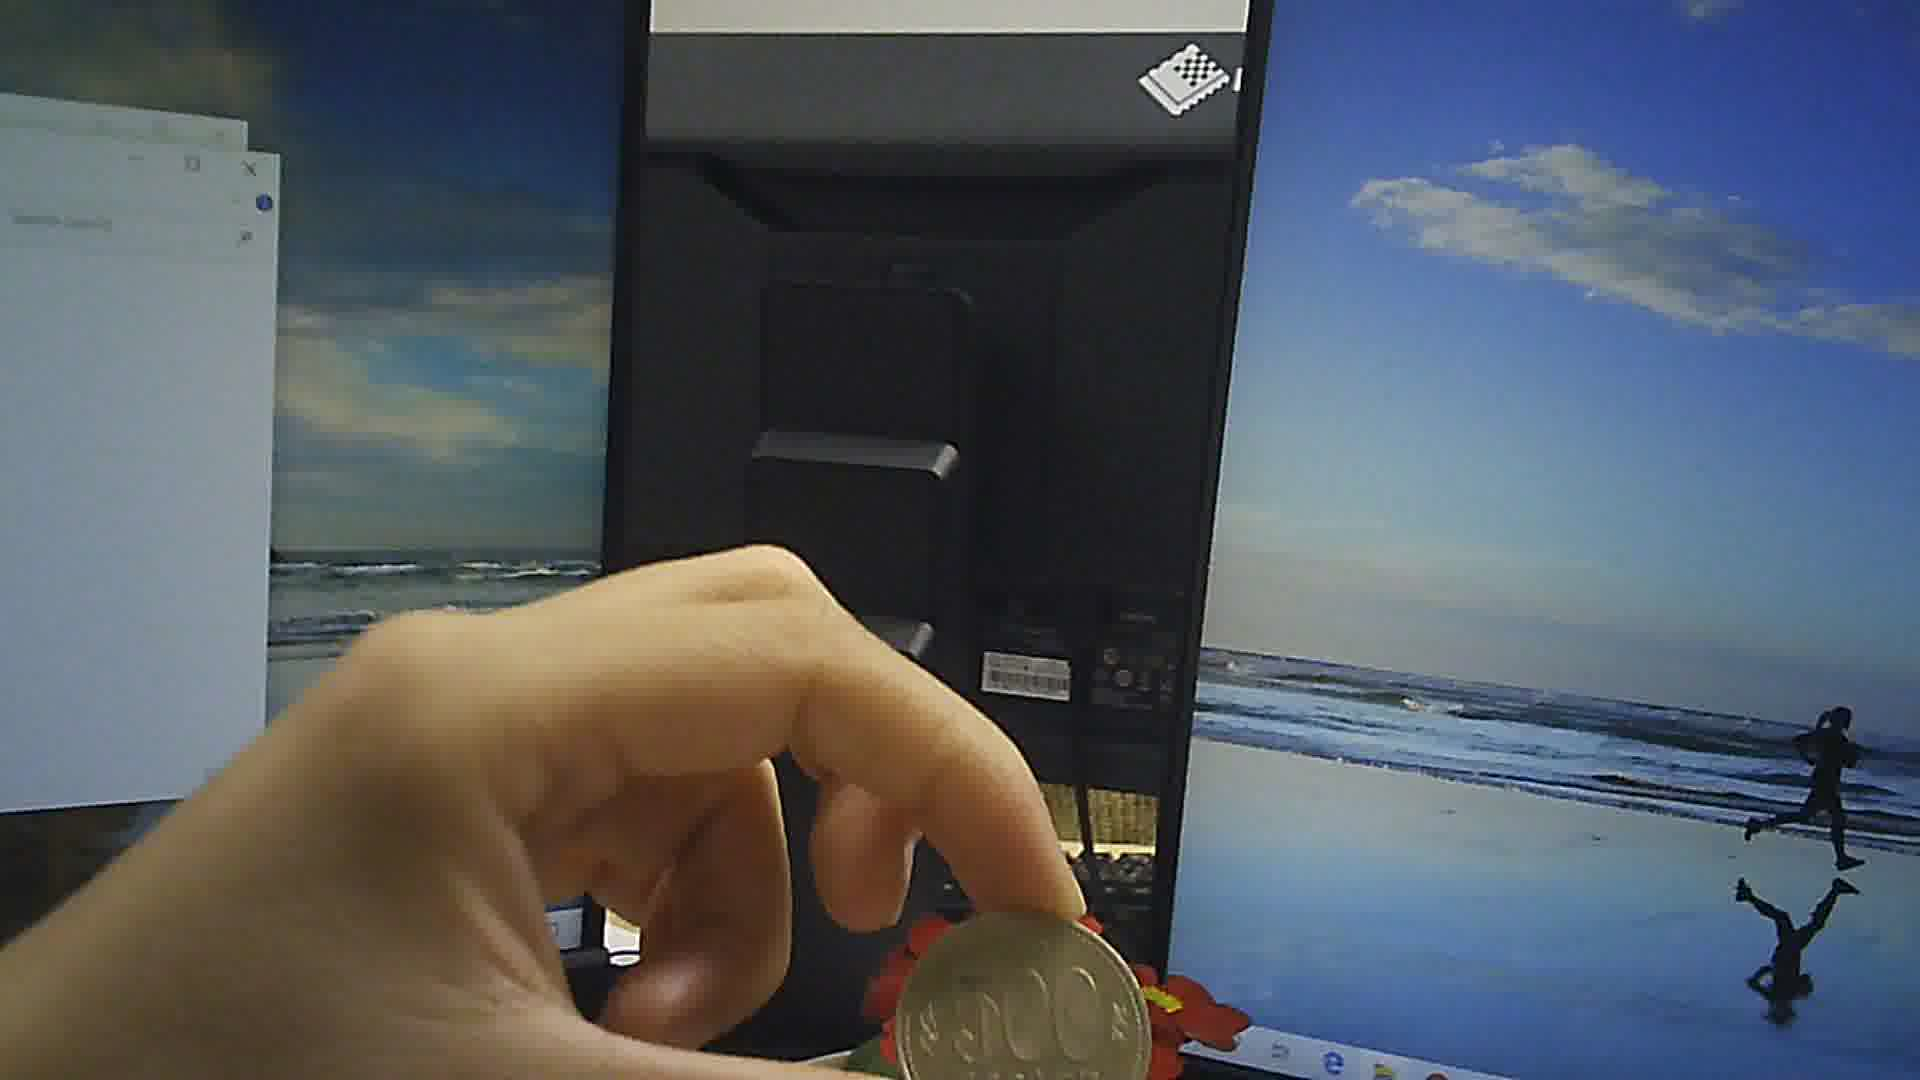500 Yen: (894, 905, 1158, 1079)
